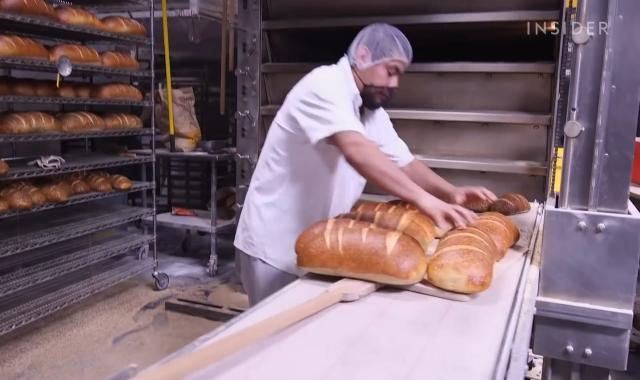hairnet: (348, 21, 414, 69)
